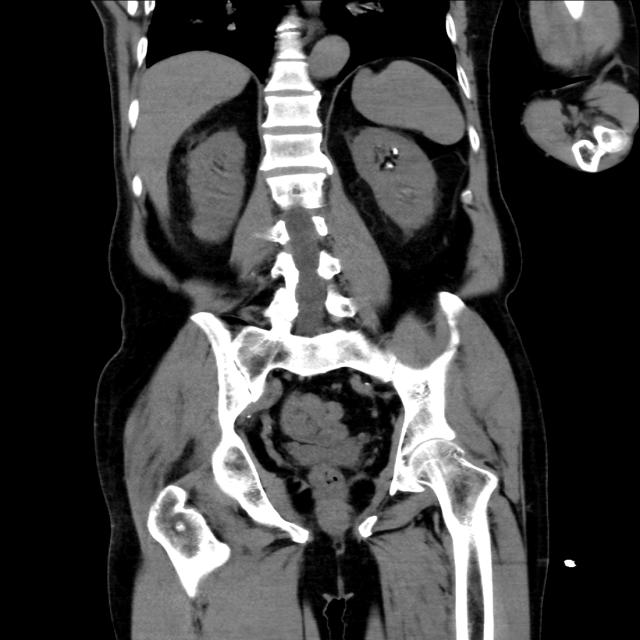kidneystone: (387, 164, 395, 168), (393, 148, 398, 151)
